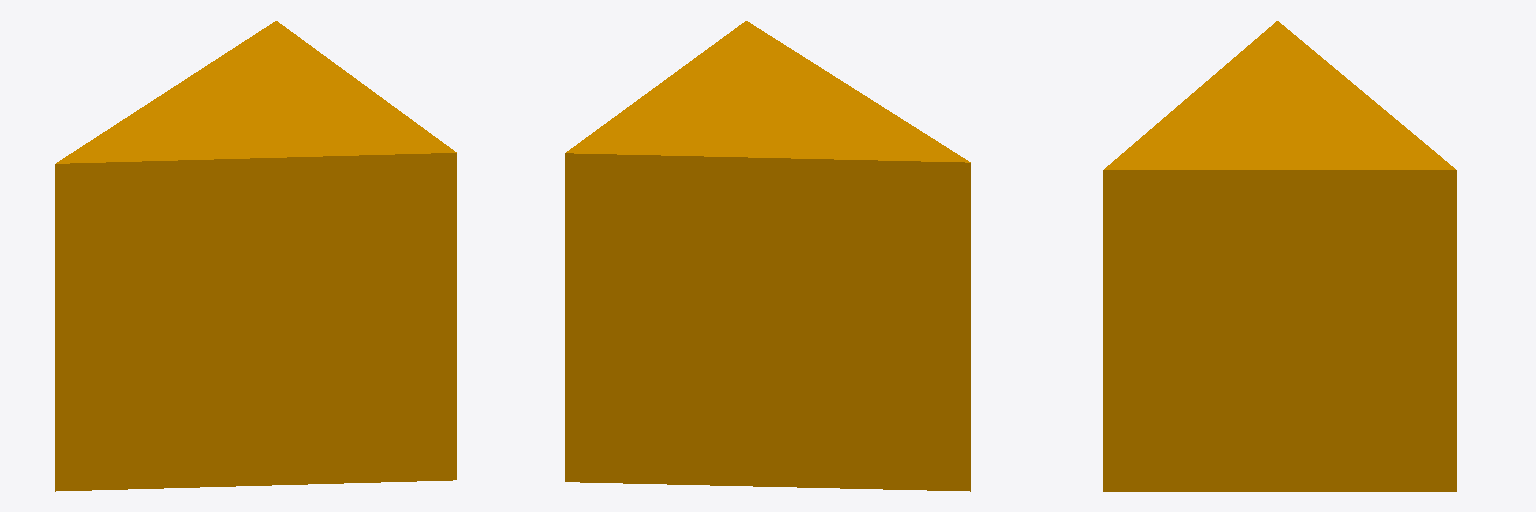
robot.urdf — object:
<?xml version="1.0"?>
<robot name="object">
  <link name="object">
    <visual>
      <origin xyz="0 0 0"/>
      <geometry>
        <mesh filename="meshes/polygon/poly_1_s.obj" scale=".03 .03 .03"/>
      </geometry>
    </visual>
    <collision>
  <origin xyz="0 0 0"/>
  <geometry>
    <mesh filename="meshes/polygon/poly_1_s_0decompose.obj" scale=".03 .03 .03"/>
<!--          <mesh filename="meshes/custom/obj0_ball.obj" scale=".05 .05 .05"/>-->
  </geometry>
</collision>

<!--    <collision>-->
<!--      <origin xyz="0 0 0"/>-->
<!--      <geometry>-->
<!--        <mesh filename="meshes/polygon/poly_1_s.obj" scale=".03 .03 .03"/>-->
<!--&lt;!&ndash;          <mesh filename="meshes/custom/obj0_ball.obj" scale=".05 .05 .05"/>&ndash;&gt;-->
<!--      </geometry>-->
<!--    </collision>-->
    <inertial>
      <density value="1000.0"/>
    </inertial>
  </link>
</robot>

--- Render facts (derived) ---
3 views of the same robot in one strip: view 1: azimuth 30°, elevation 25°; view 2: azimuth 150°, elevation 25°; view 3: azimuth 270°, elevation 25° (orthographic).
Model object with 1 links and 0 joints (none), rooted at object, posed every joint at zero.
Visible links, largest first — view 1: object; view 2: object; view 3: object.
Link boxes in pixels (bbox=[...]): object: bbox=[55, 21, 456, 491]; object: bbox=[565, 21, 970, 491]; object: bbox=[1103, 21, 1456, 491].
Size in the robot's own frame: 0.06 by 0.06 by 0.06 metres.
1 mesh visuals loaded from 1 distinct referenced files (1 OBJ).
